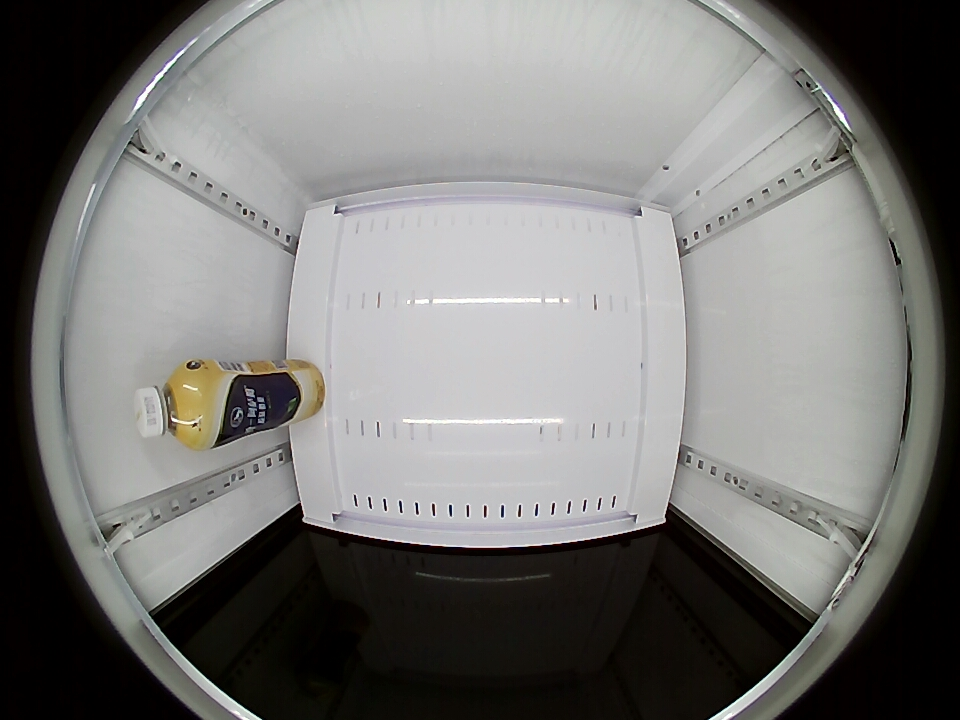asamu: (133, 361, 218, 449)
